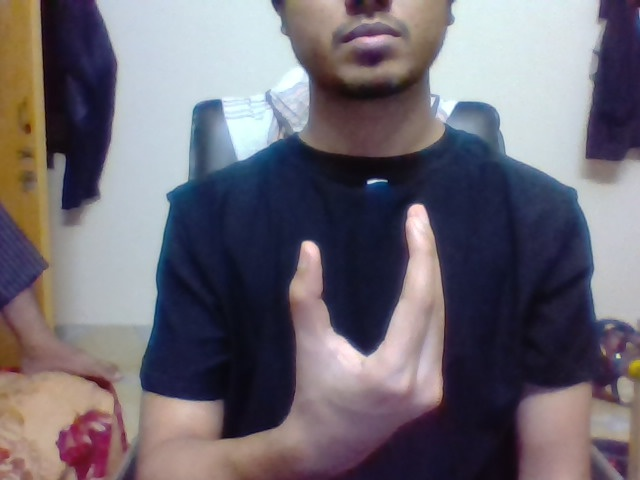U: (277, 192, 458, 395)
